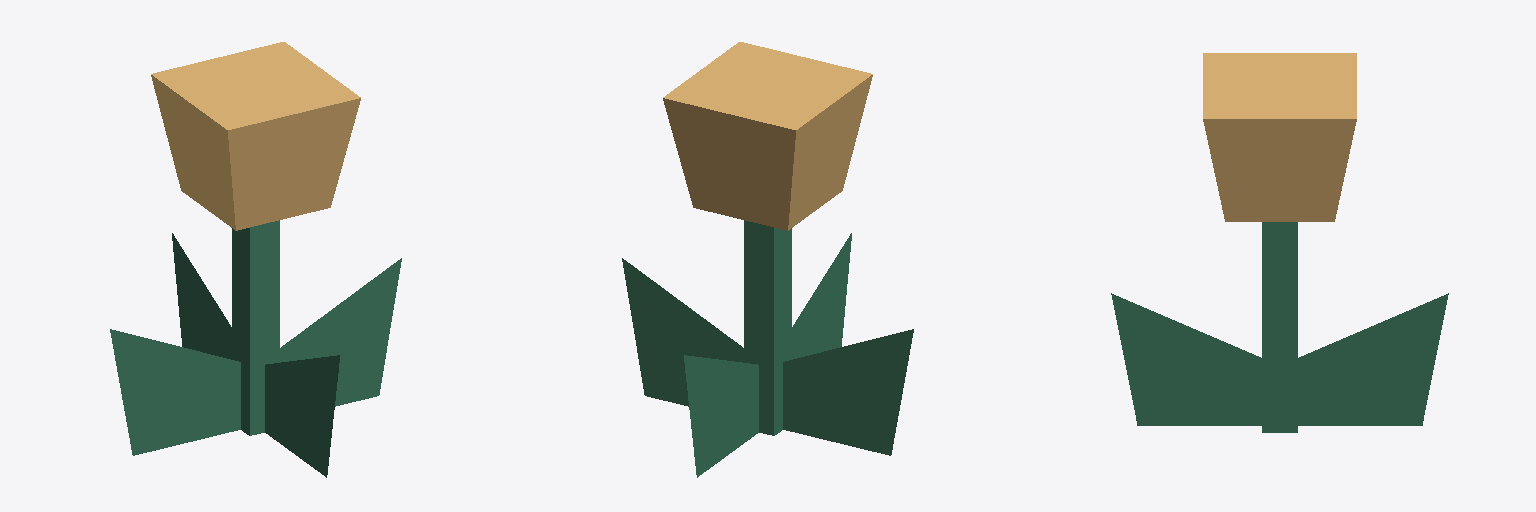
3 views of the same model, side by side, from view 1: azimuth 30°, elevation 25°; view 2: azimuth 150°, elevation 25°; view 3: azimuth 270°, elevation 25° (orthographic).
Visible parts, largest first — view 1: Mesh1 Flower_Tall_Yellow Model, Mesh5 Flower_Tall_Yellow Model, Mesh2 Flower_Tall_Yellow Model, Mesh4 Flower_Tall_Yellow Model, Mesh3 Flower_Tall_Yellow Model; view 2: Mesh1 Flower_Tall_Yellow Model, Mesh5 Flower_Tall_Yellow Model, Mesh2 Flower_Tall_Yellow Model, Mesh3 Flower_Tall_Yellow Model, Mesh4 Flower_Tall_Yellow Model; view 3: Mesh1 Flower_Tall_Yellow Model, Mesh3 Flower_Tall_Yellow Model, Mesh4 Flower_Tall_Yellow Model.
Boxes of the visible parts, x1=… form: Mesh1 Flower_Tall_Yellow Model: x1=151, y1=42, x2=360, y2=435; Mesh5 Flower_Tall_Yellow Model: x1=110, y1=329, x2=240, y2=455; Mesh2 Flower_Tall_Yellow Model: x1=280, y1=258, x2=401, y2=406; Mesh4 Flower_Tall_Yellow Model: x1=265, y1=355, x2=339, y2=477; Mesh3 Flower_Tall_Yellow Model: x1=172, y1=233, x2=231, y2=359; Mesh1 Flower_Tall_Yellow Model: x1=663, y1=42, x2=872, y2=435; Mesh5 Flower_Tall_Yellow Model: x1=783, y1=329, x2=913, y2=455; Mesh2 Flower_Tall_Yellow Model: x1=622, y1=258, x2=743, y2=406; Mesh3 Flower_Tall_Yellow Model: x1=684, y1=355, x2=758, y2=477; Mesh4 Flower_Tall_Yellow Model: x1=792, y1=233, x2=851, y2=359; Mesh1 Flower_Tall_Yellow Model: x1=1203, y1=53, x2=1356, y2=432; Mesh3 Flower_Tall_Yellow Model: x1=1298, y1=293, x2=1448, y2=425; Mesh4 Flower_Tall_Yellow Model: x1=1111, y1=293, x2=1261, y2=425.
Size of the model in its own units: 0.4859 by 0.54 by 0.4859.
1 materials, 1 textured.